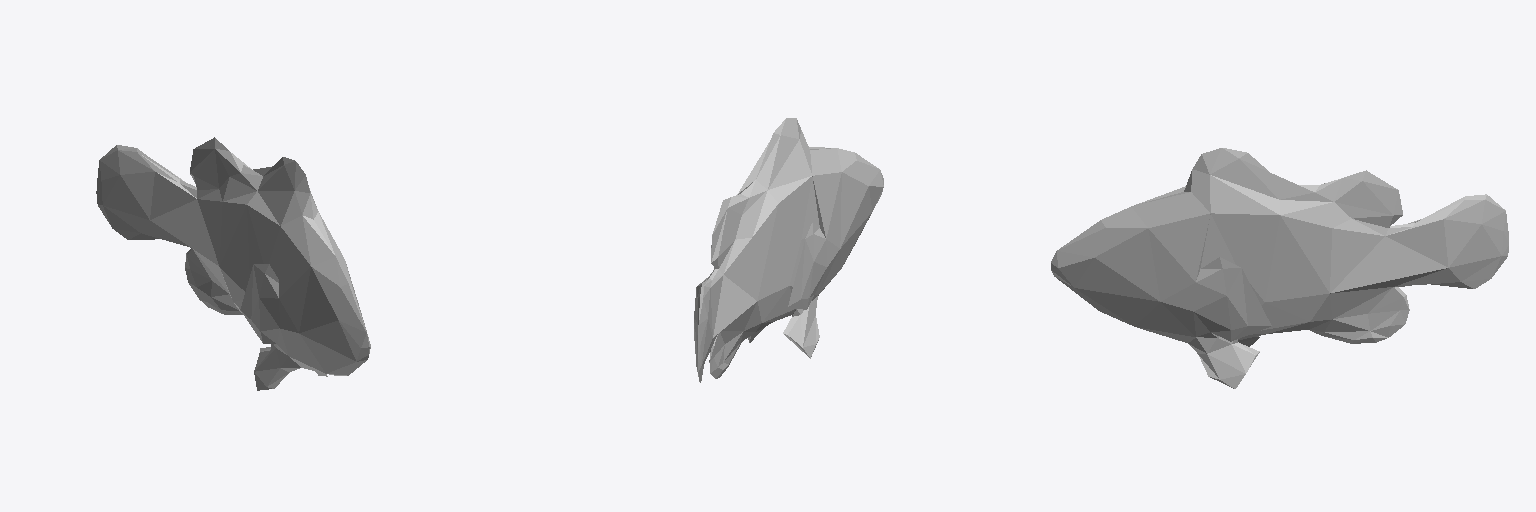
Rendered from ClownFish_Low.obj.
The picture shows the model from 3 angles: view 1: azimuth 30°, elevation 25°; view 2: azimuth 150°, elevation 25°; view 3: azimuth 270°, elevation 25°; orthographic projection.
Visible parts, largest first — view 1: ClownFish_ClownFishMesh.002; view 2: ClownFish_ClownFishMesh.002; view 3: ClownFish_ClownFishMesh.002.
Boxes of the visible parts, <box> form: ClownFish_ClownFishMesh.002: <box>96,137,370,390</box>; ClownFish_ClownFishMesh.002: <box>694,118,883,382</box>; ClownFish_ClownFishMesh.002: <box>1051,148,1508,388</box>.
Bounding box in the file's own units: 0.1339 × 0.3243 × 0.5928.